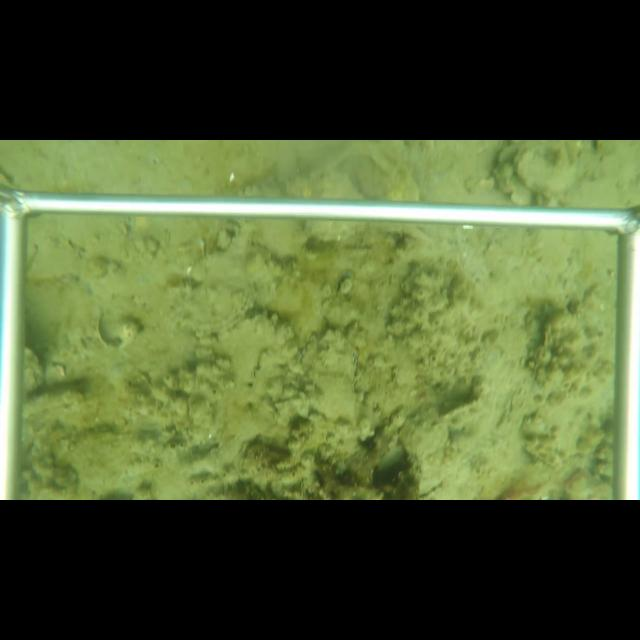Oyster-Closed: (173, 223, 261, 337), (296, 330, 320, 373)
Oyster-Indeterminate: (530, 284, 609, 398), (398, 404, 454, 498), (514, 141, 581, 194), (442, 398, 485, 421)
